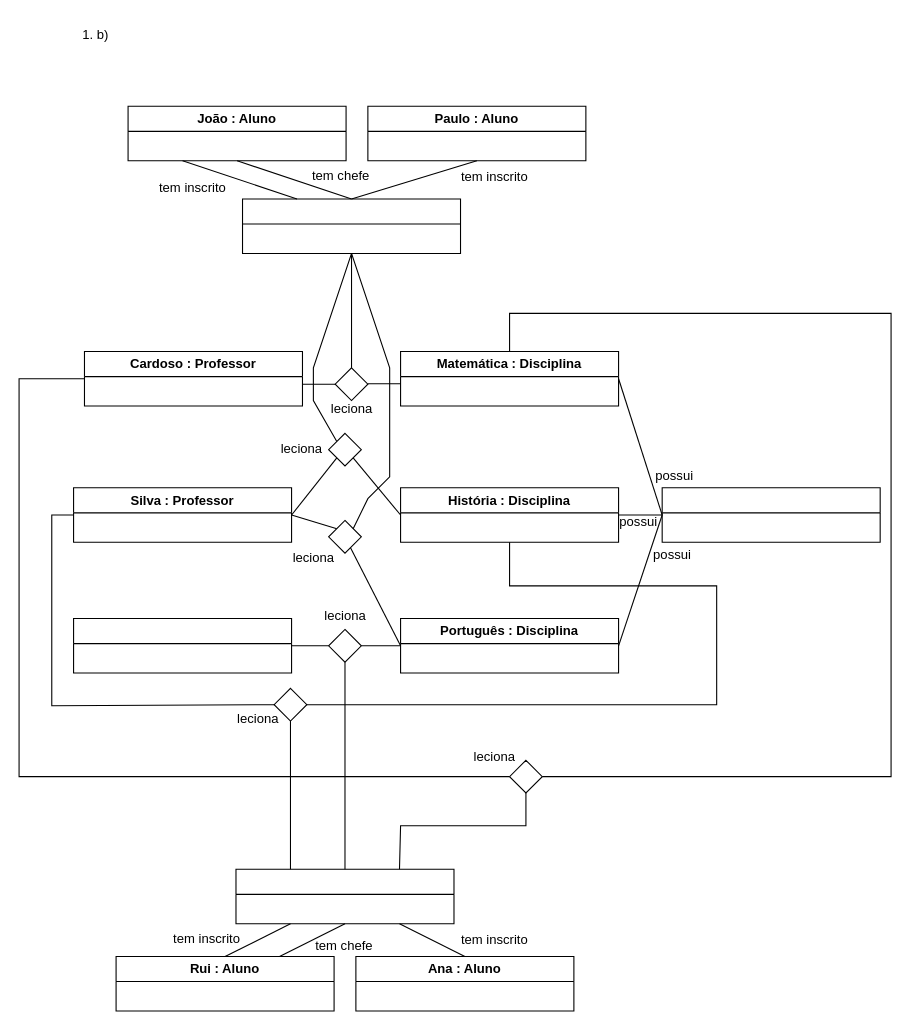
This 911x1030 diagram has some shape labels left out. The centre of each missing label's shape, as x and y in pixels:
1 : Turma: point 351,225
2 : Turma: point 344,896
Ensino Básico : Curso: point 770,514
Pereira : Professor: point 182,645
